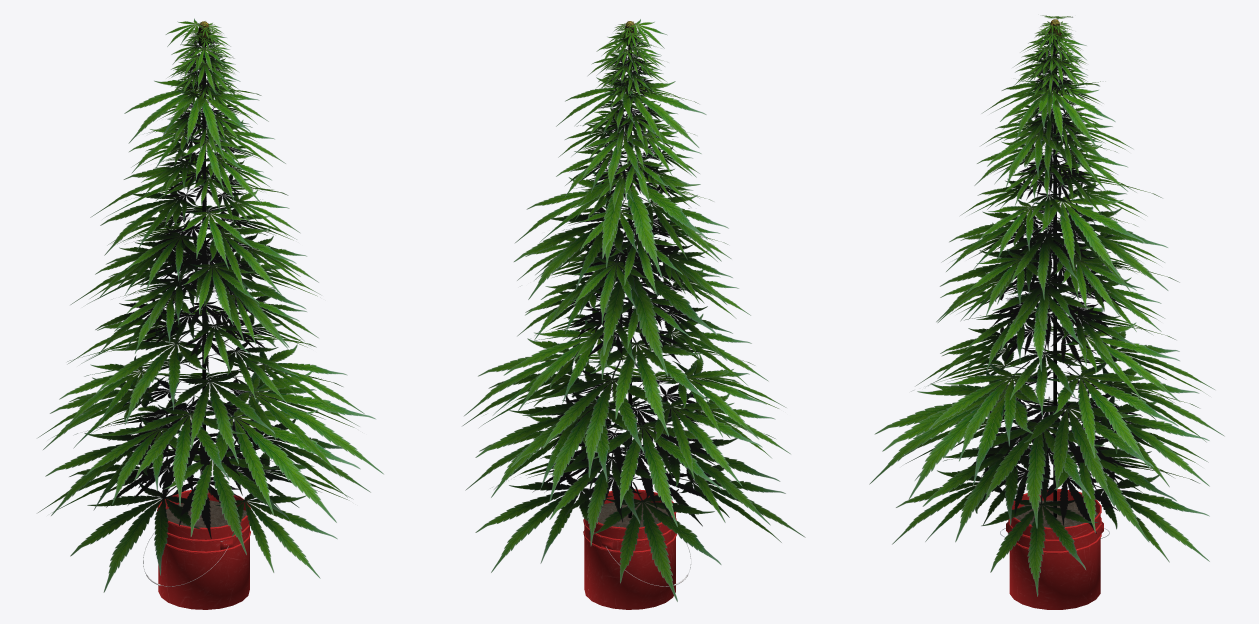
The model's file is cannabis_plant..glb.
3 renders of one model, left to right at view 1: azimuth 30°, elevation 25°; view 2: azimuth 150°, elevation 25°; view 3: azimuth 270°, elevation 25°, orthographic.
Parts seen in each view (by area): view 1: Object002_Material #26_0, Object002_Material #66_0; view 2: Object002_Material #26_0, Object002_Material #66_0; view 3: Object002_Material #26_0, Object002_Material #66_0, Object002_Material #28_0.
Part boxes in pixels (<box>): Object002_Material #26_0: <box>38,18,383,592</box>; Object002_Material #66_0: <box>143,490,250,609</box>; Object002_Material #26_0: <box>463,19,805,601</box>; Object002_Material #66_0: <box>583,489,691,609</box>; Object002_Material #26_0: <box>869,15,1224,596</box>; Object002_Material #66_0: <box>1000,489,1109,609</box>; Object002_Material #28_0: <box>1053,45,1056,517</box>.
Bounding box in the file's own units: 0.0305 × 0.0495 × 0.0314.
Materials: 4 (3 with a texture image).
